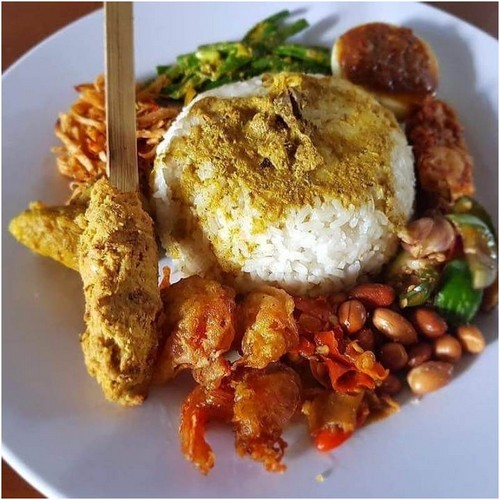nasi campur bali: (73, 36, 474, 360)
